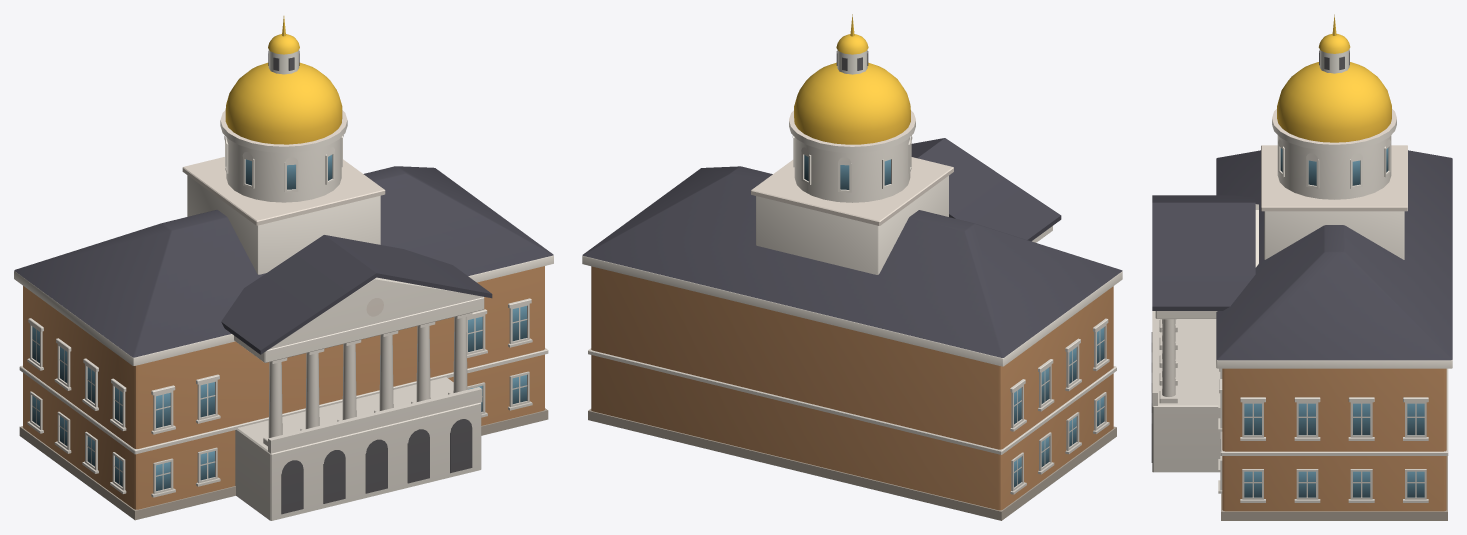
Rendered from state_house.glb.
3 views of the same model, side by side, from view 1: azimuth 30°, elevation 25°; view 2: azimuth 150°, elevation 25°; view 3: azimuth 270°, elevation 25° (orthographic).
Parts seen in each view (by area): view 1: state_house; view 2: state_house; view 3: state_house.
Boxes of the visible parts, <box> form: state_house: <box>14,16,553,520</box>; state_house: <box>582,14,1122,520</box>; state_house: <box>1151,14,1452,520</box>.
Bounding box in the file's own units: 28.7 × 26.95 × 18.05.
1 material, 1 textured.
